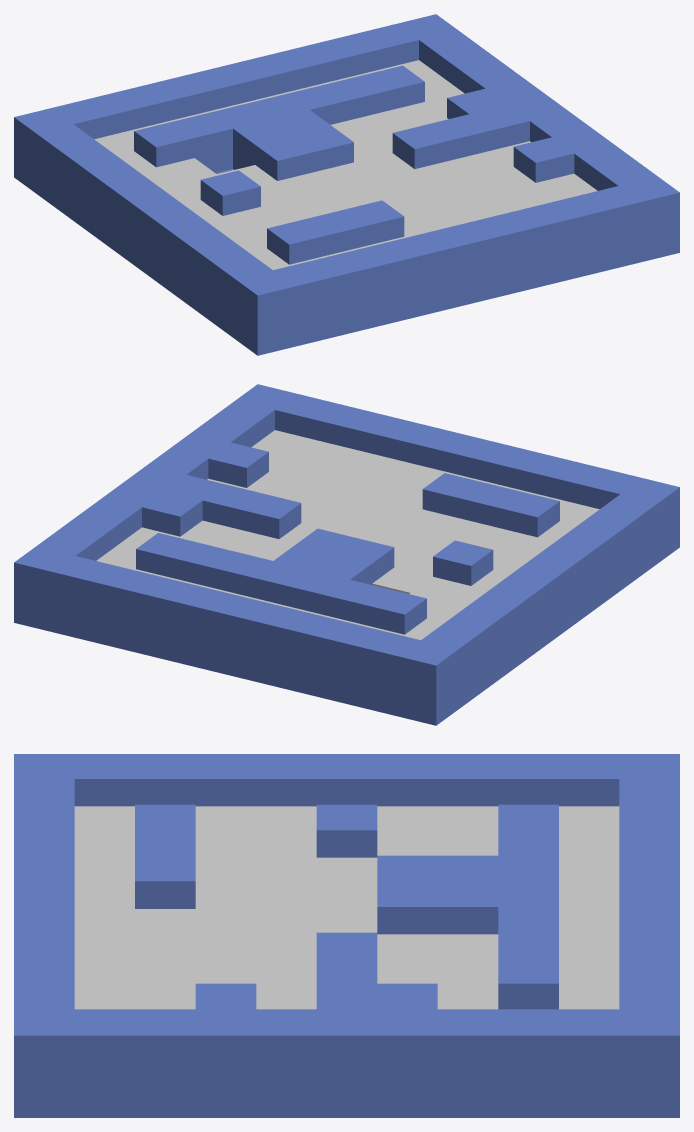
File: 043_platform.fbx
3 renders of one model, top to bottom at view 1: azimuth 30°, elevation 25°; view 2: azimuth 150°, elevation 25°; view 3: azimuth 270°, elevation 25°, orthographic. The views are drawn at different scales.
Visible parts, largest first — view 1: Cube; view 2: Cube; view 3: Cube.
Part boxes in pixels (left/top/right/bottom): Cube: left=14, top=14, right=679, bottom=355; Cube: left=14, top=384, right=679, bottom=725; Cube: left=14, top=754, right=679, bottom=1117.
Bounding box in the file's own units: 1100 × 150 × 1100.
